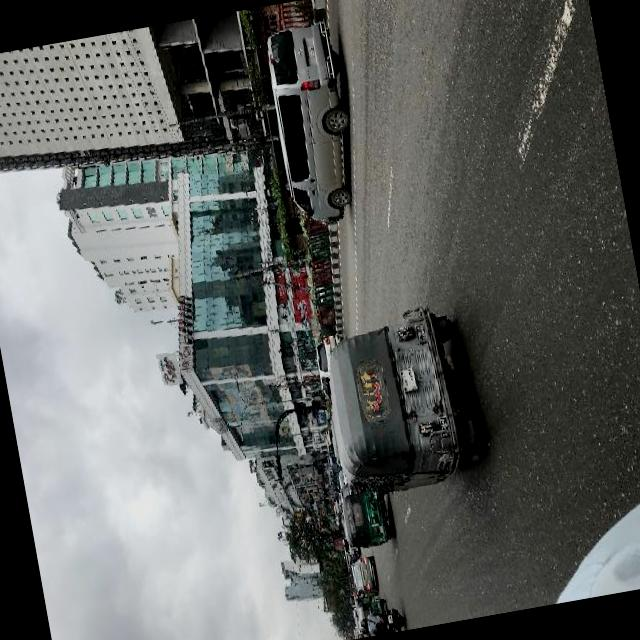bus: (324, 452, 342, 487), (323, 428, 333, 454)
car: (311, 334, 336, 378), (350, 557, 378, 594)
motorcycle: (312, 296, 490, 502), (338, 484, 398, 552), (377, 602, 409, 634), (355, 596, 387, 618), (352, 548, 362, 558), (354, 592, 360, 596)
truck: (258, 14, 368, 234)
